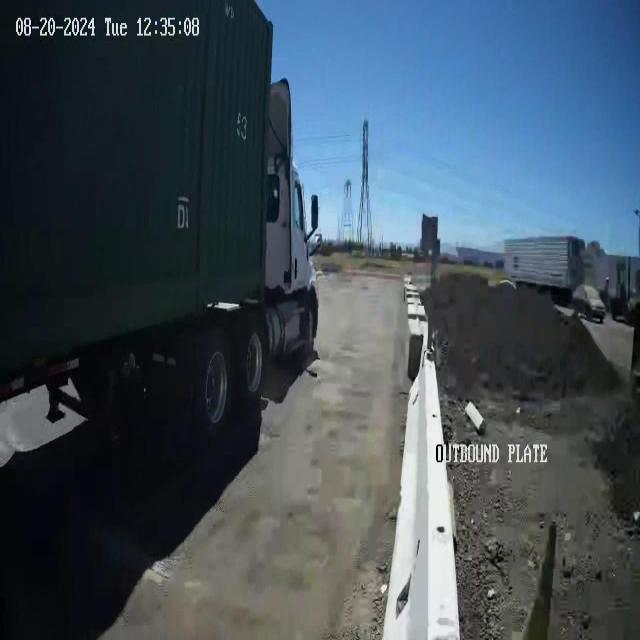TRUCK_CONTAINER: (1, 1, 321, 480)
